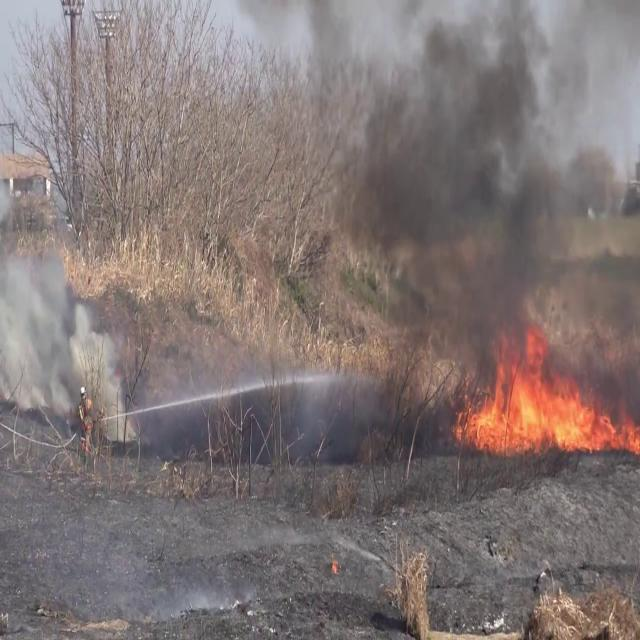Fire: (454, 341, 640, 459)
Smoke: (318, 0, 640, 360), (0, 220, 126, 428)
